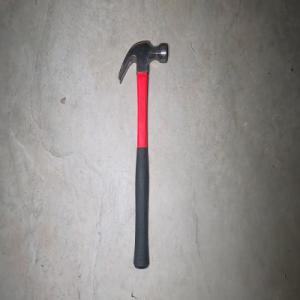Hammer: (117, 39, 168, 270)
